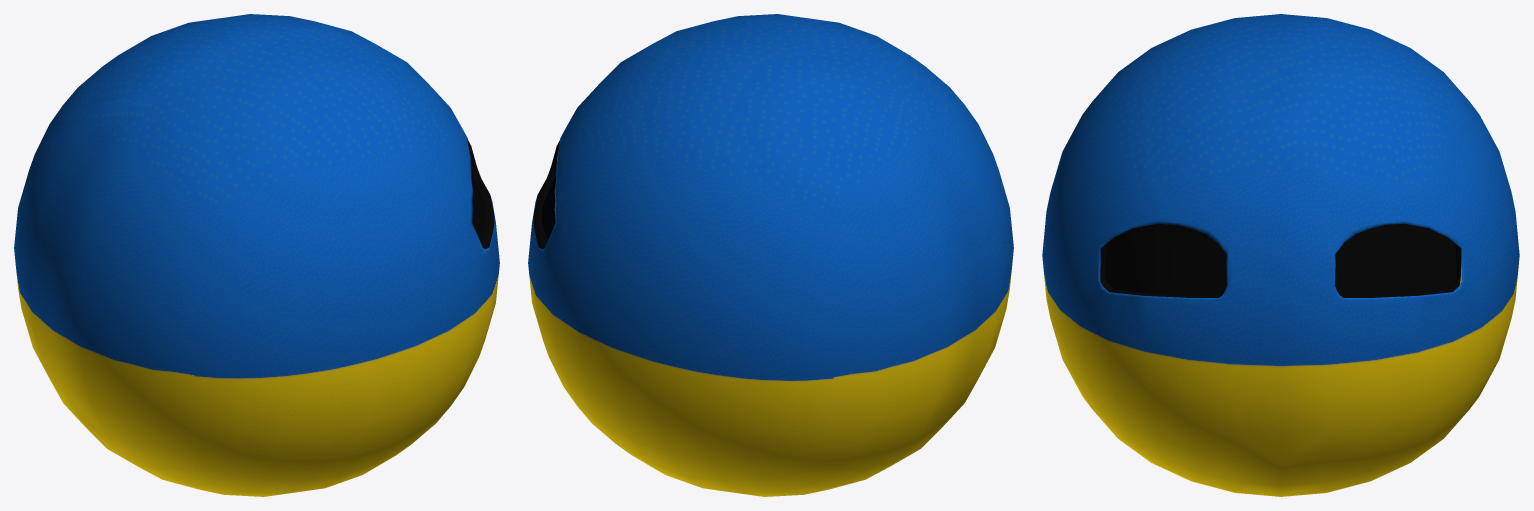
3 renders of one model, left to right at view 1: azimuth 30°, elevation 25°; view 2: azimuth 150°, elevation 25°; view 3: azimuth 270°, elevation 25°, orthographic.
Visible parts, largest first — view 1: Cube; view 2: Cube; view 3: Cube.
Part boxes in pixels (bbox=[...]): Cube: bbox=[14, 14, 499, 496]; Cube: bbox=[528, 14, 1013, 496]; Cube: bbox=[1042, 14, 1519, 496].
Size of the model in its own units: 168 by 168 by 168.
